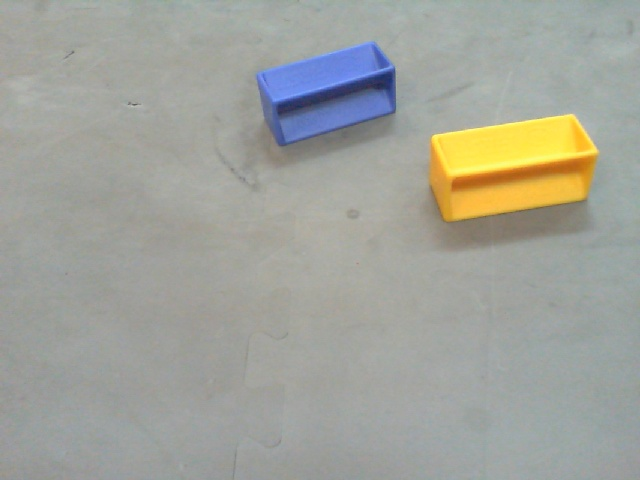BlueSample: (257, 39, 397, 150)
YellowSample: (427, 109, 602, 222)
